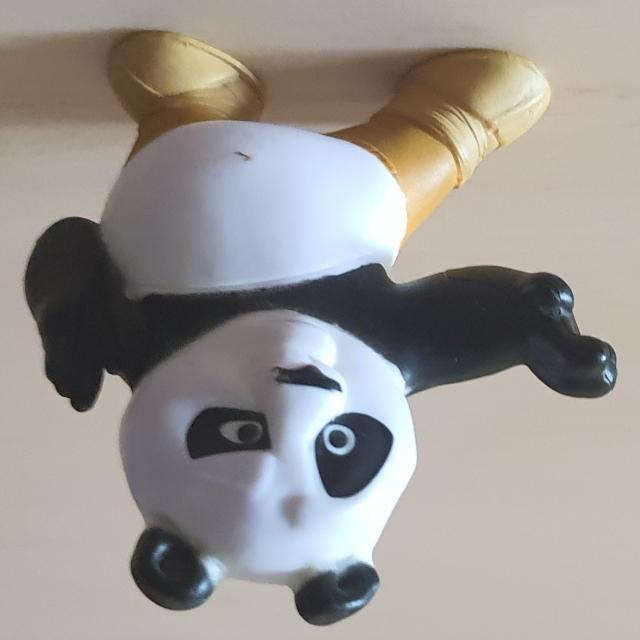Panda: (24, 30, 618, 628)
